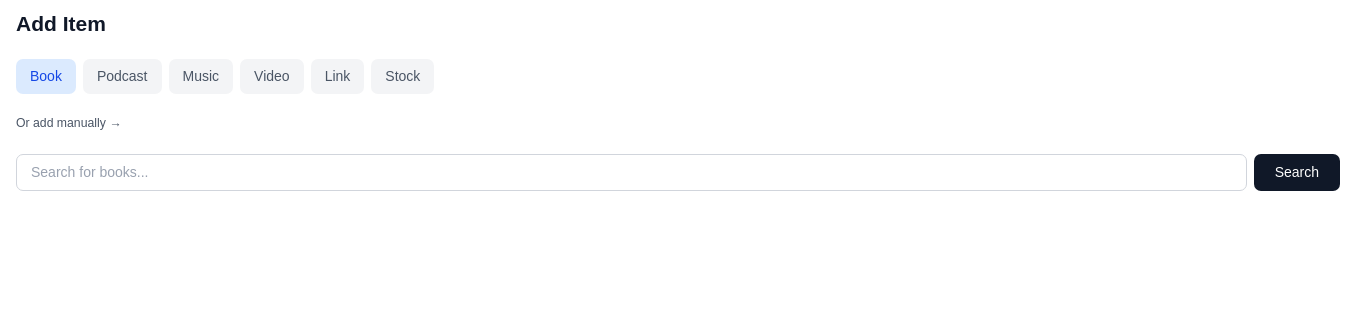
Test: AddItemForm - Episode Browsing › shows back button when browsing episodes
// Navigate to episodes
Step 1. Click the button "Podcast" → (122, 76), box [83, 59, 162, 94]
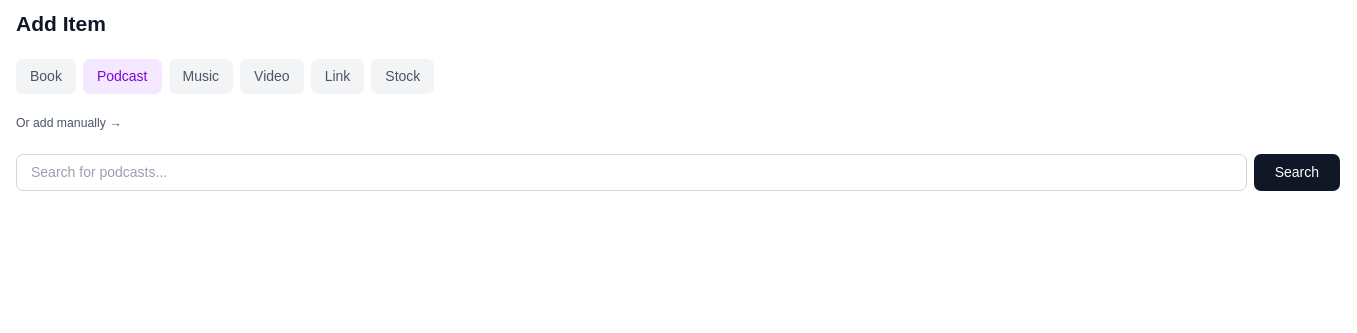
Step 2. Type "test podcast" into the field with placeholder "Search for podcasts..." → (631, 172), box [16, 154, 1247, 190]
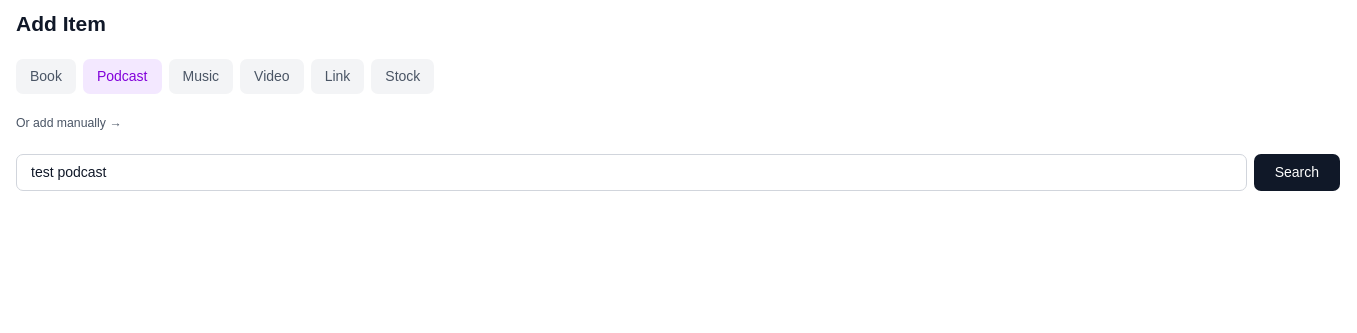
Step 3. Click the button "Search" → (1297, 172), box [1254, 154, 1340, 190]
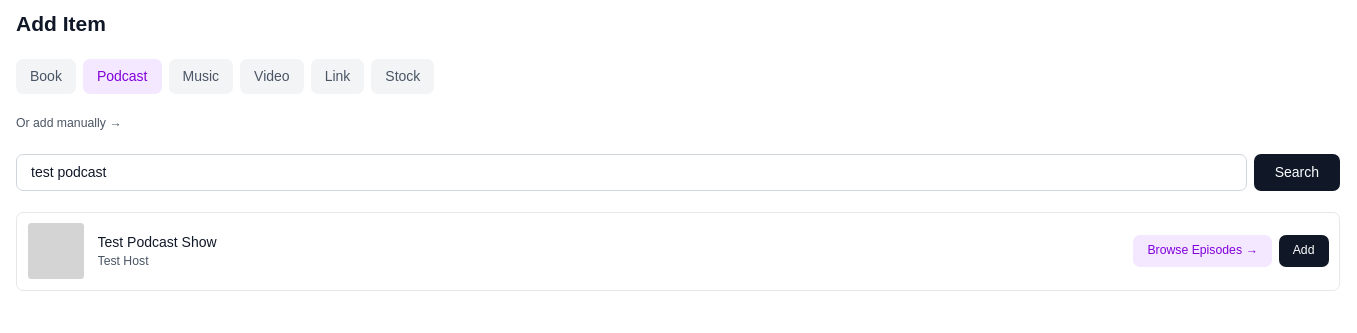
Expected: the button "Browse Episodes →" is shown
Step 4. Click the button "Browse Episodes →" → (1203, 251), box [1133, 235, 1272, 267]
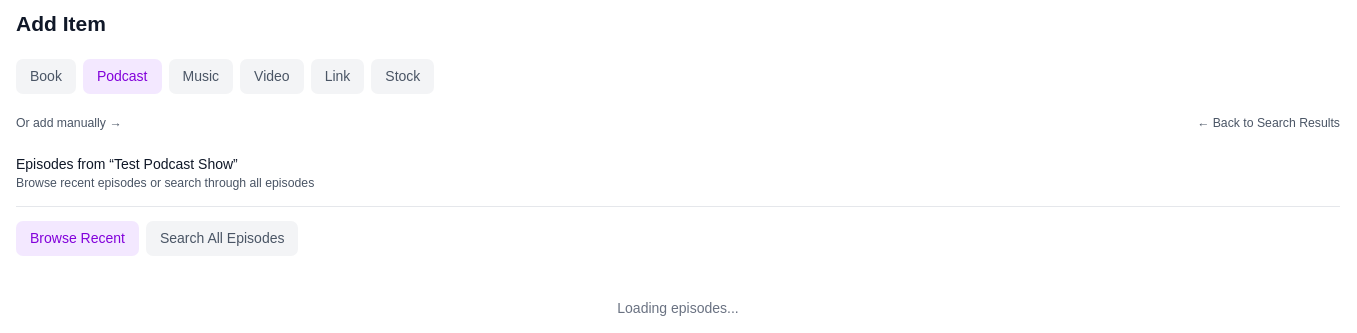
Expected: the button "← Back to Search Results" is shown
// Click back button
Step 5. Click the button "← Back to Search Results" → (1268, 124), box [1197, 115, 1340, 132]
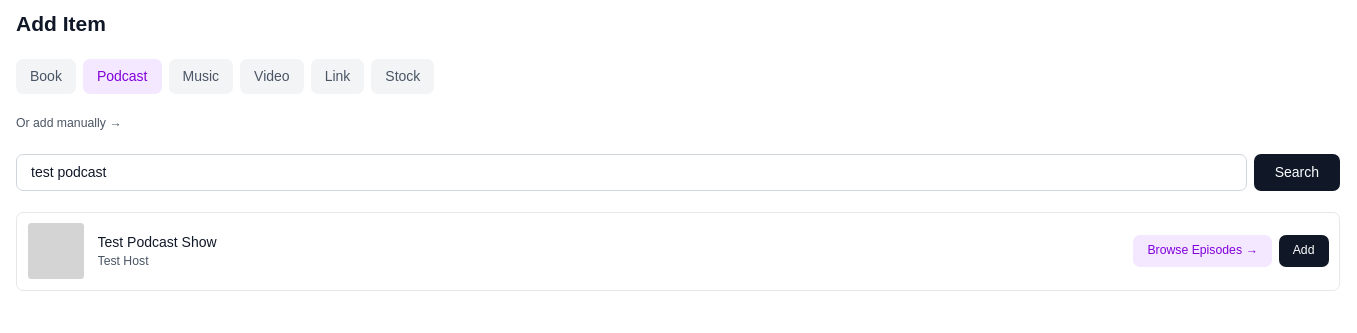
Expected: the heading "Test Podcast Show" is shown, [98, 234, 217, 250]
Expected: the button "Browse Episodes →" is shown, [1133, 235, 1272, 267]
